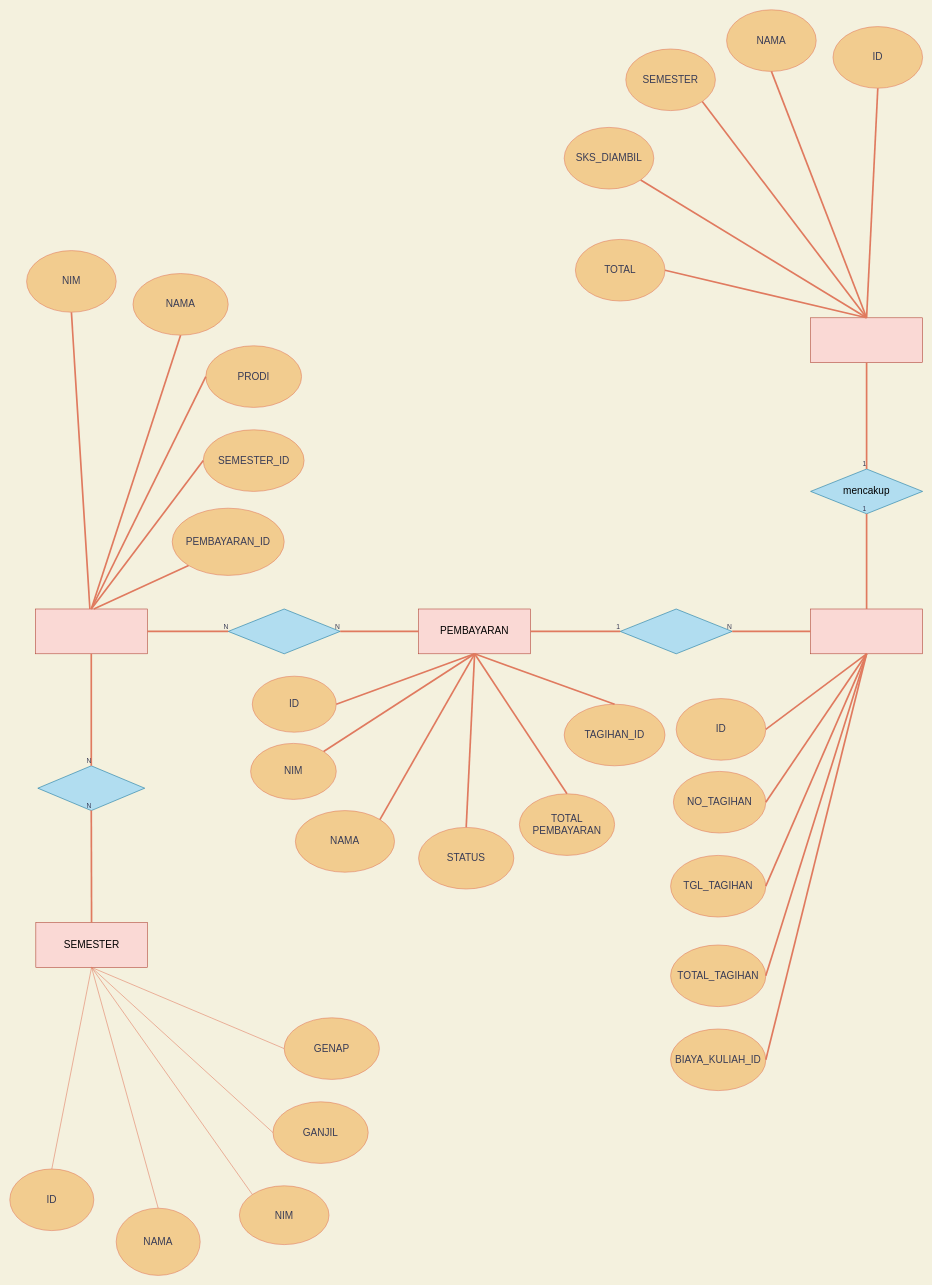
The diagram is 932 pixels wide and 1285 high, and some of its shapes have lost their labels. The shapes that lost their labels are listed below. From the top down, each one's centre as x and y in pixels, then its label:
the point at 866,340: BIAYA KULIAH
the point at 91,631: MAHASISWA
the point at 284,631: melakukan
the point at 676,631: melunasi
the point at 866,631: TAGIHAN
the point at 91,788: terdaftar
